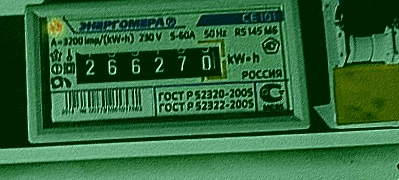0: (200, 50, 212, 71)
2: (83, 54, 98, 76), (153, 53, 166, 73)
6: (106, 55, 119, 76), (130, 54, 143, 74)
7: (176, 52, 189, 71)
screen: (62, 30, 238, 95)
